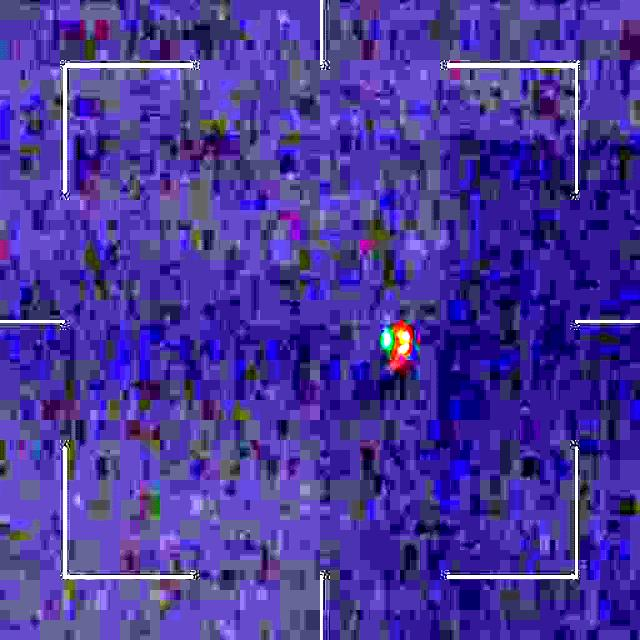bird: (382, 321, 410, 360)
